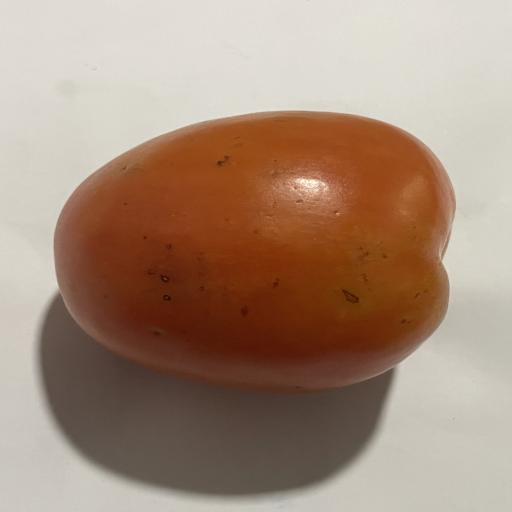ripe: (55, 111, 455, 393)
